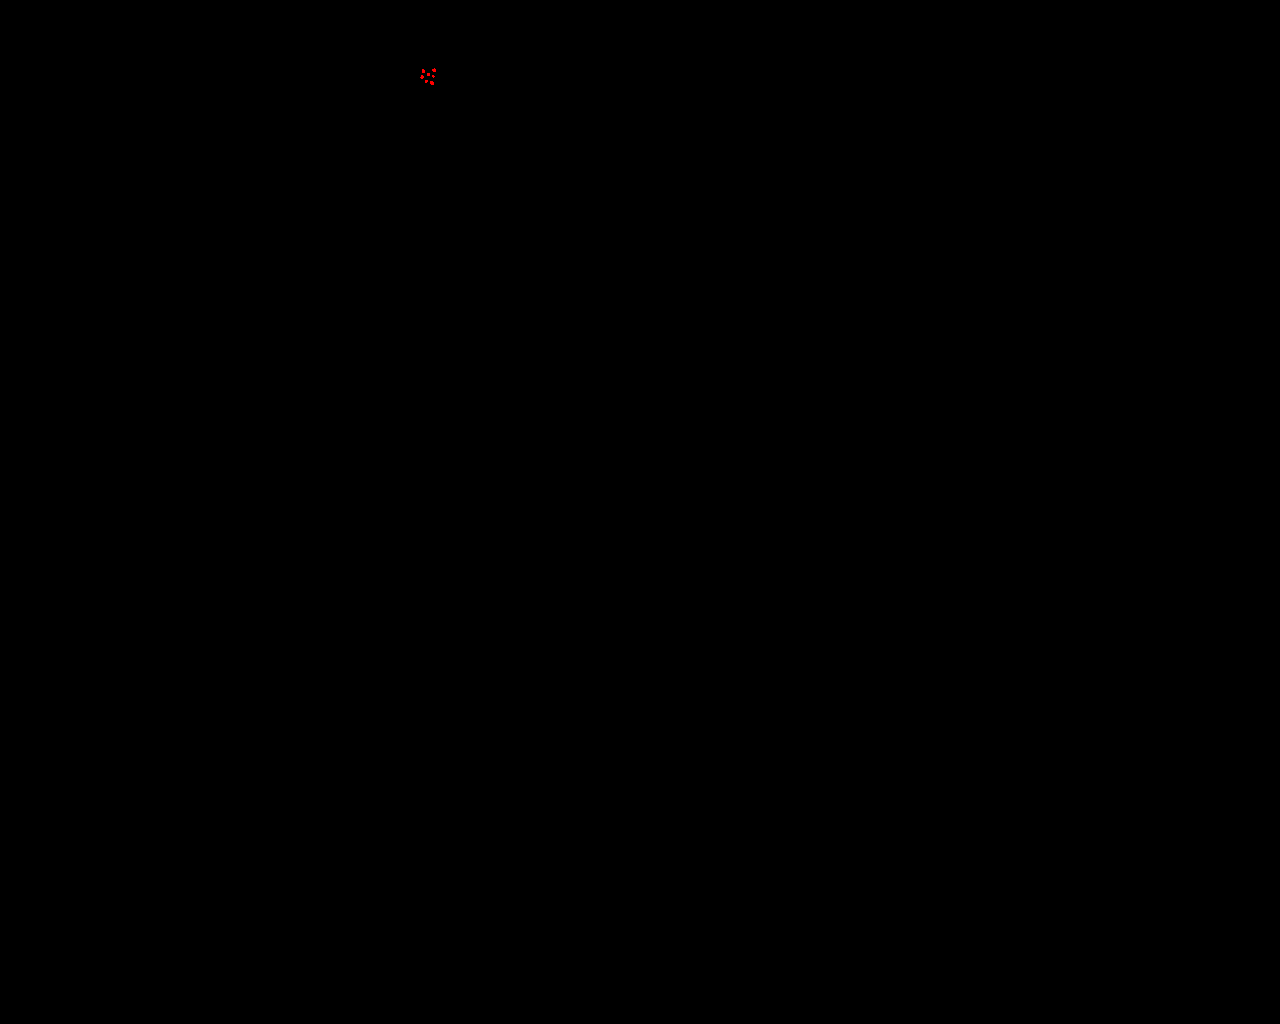Target: (432, 68, 436, 72), (420, 75, 424, 79), (422, 69, 425, 73), (427, 73, 430, 76), (432, 75, 435, 78), (430, 82, 434, 85), (425, 80, 428, 83)
